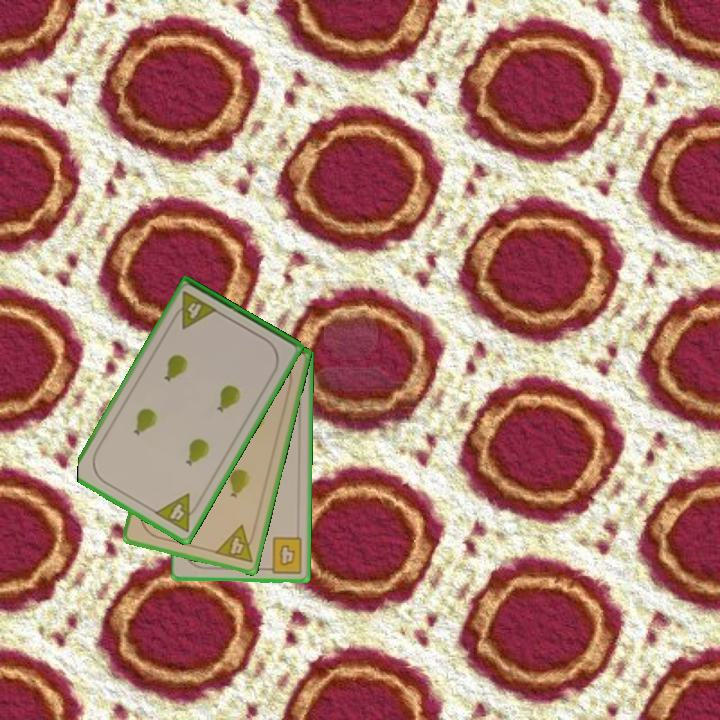4b: (261, 534, 306, 576)
4p: (151, 490, 204, 536), (168, 288, 220, 332), (211, 522, 259, 566)
